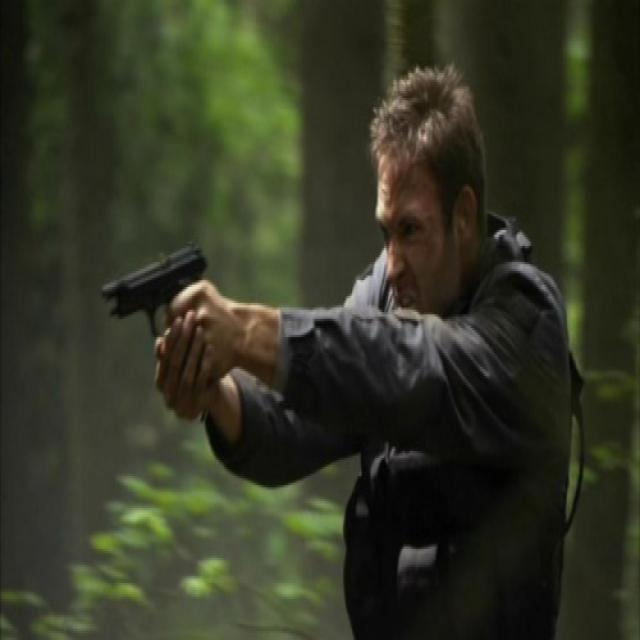weapons: (90, 226, 224, 396)
